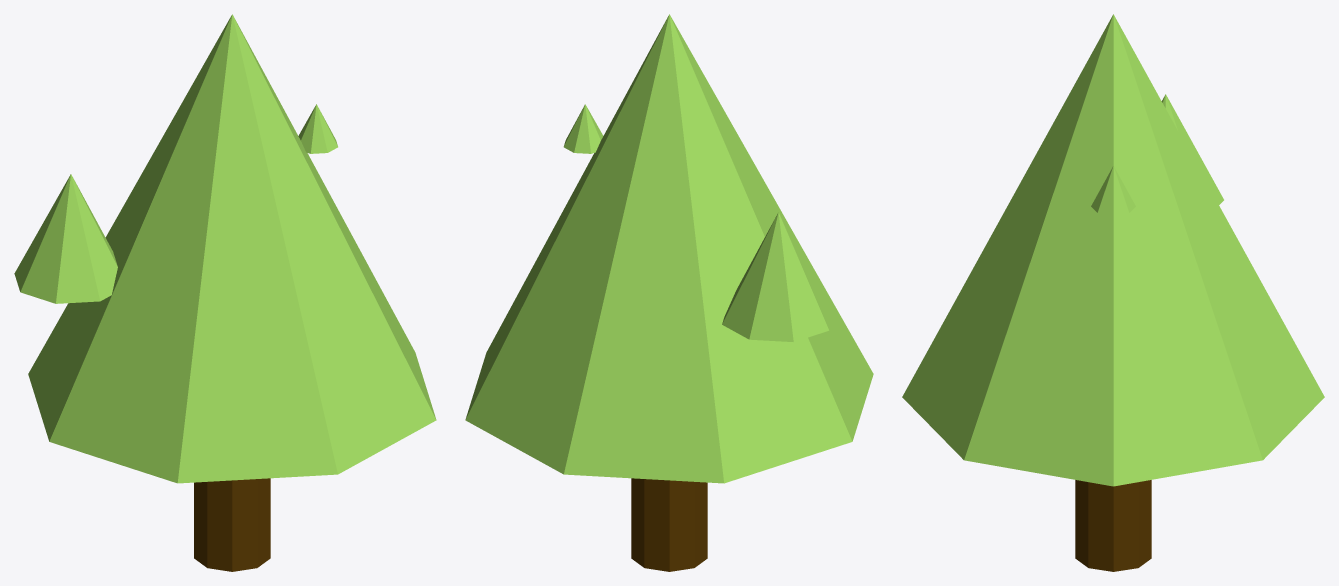
Rendered from Tree 1.fbx.
3 renders of one model, left to right at view 1: azimuth 30°, elevation 25°; view 2: azimuth 150°, elevation 25°; view 3: azimuth 270°, elevation 25°, orthographic.
Visible parts, largest first — view 1: Tree1; view 2: Tree1; view 3: Tree1.
Part boxes in pixels (box(x1,y1,x2,y2)): Tree1: box(14, 14, 436, 571); Tree1: box(465, 14, 873, 571); Tree1: box(902, 14, 1324, 571).
Size of the model in its own units: 7.52 by 10.55 by 7.46.
